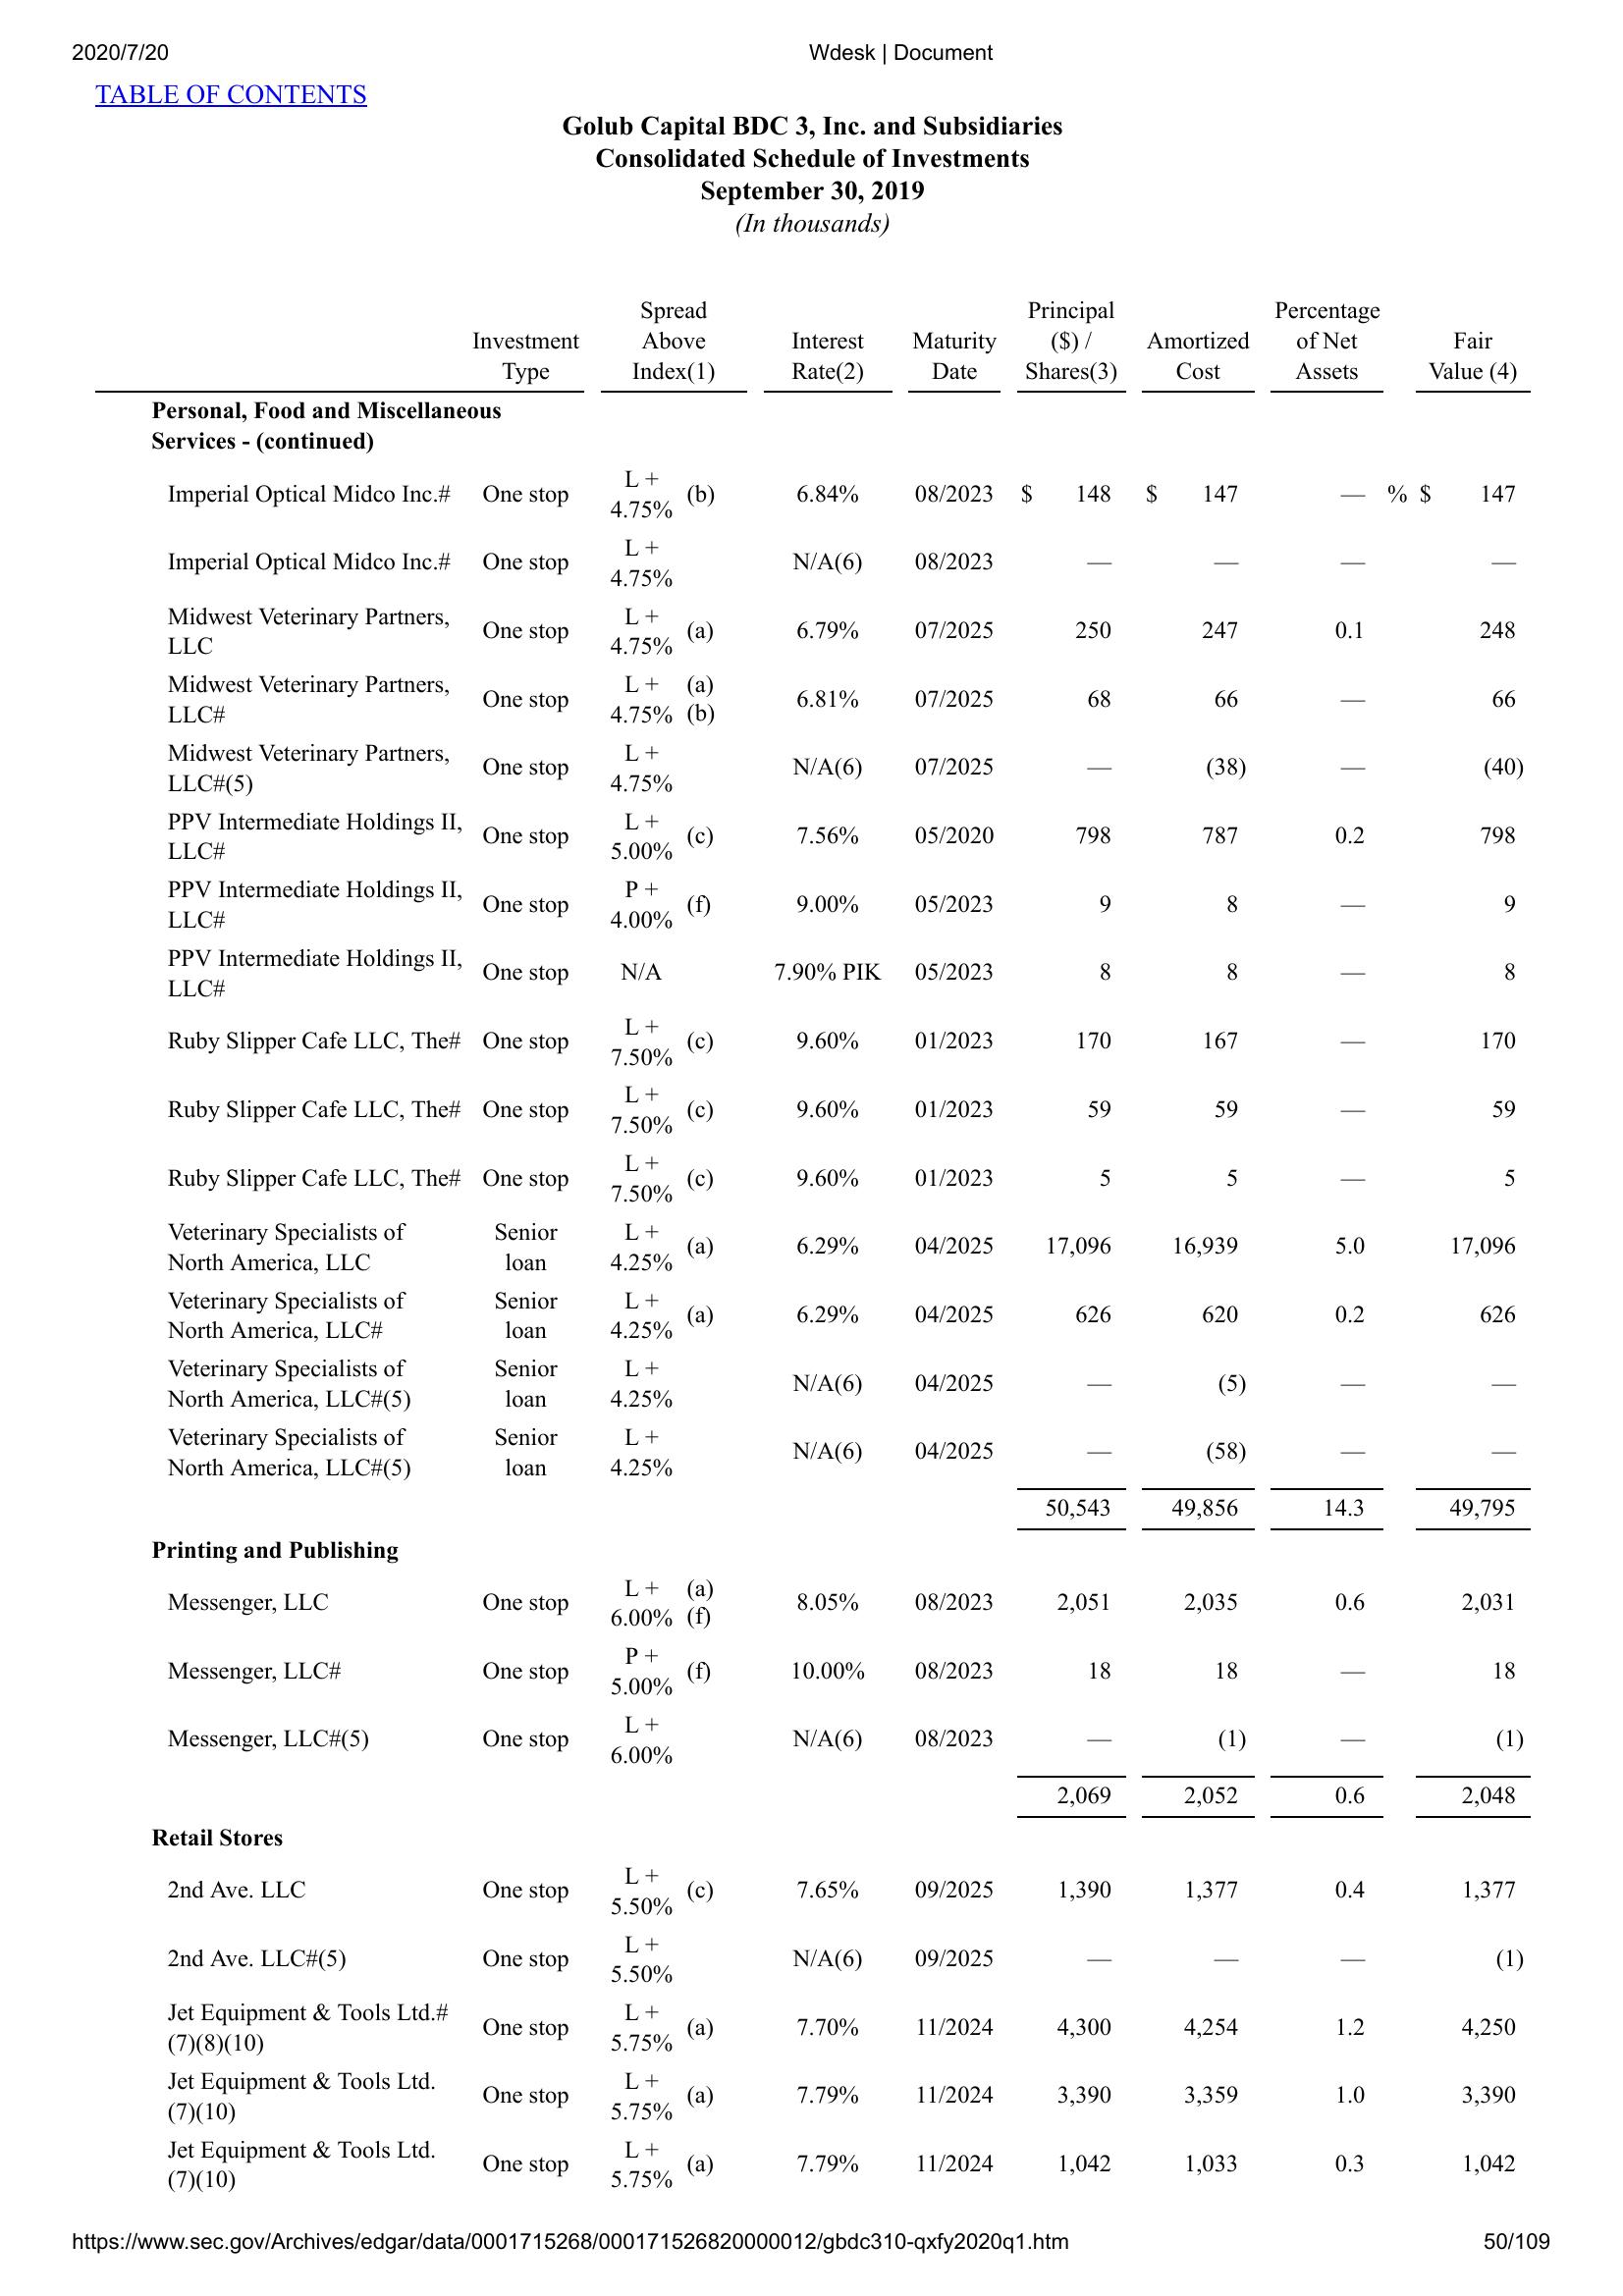table: (79, 298, 1549, 2194)
